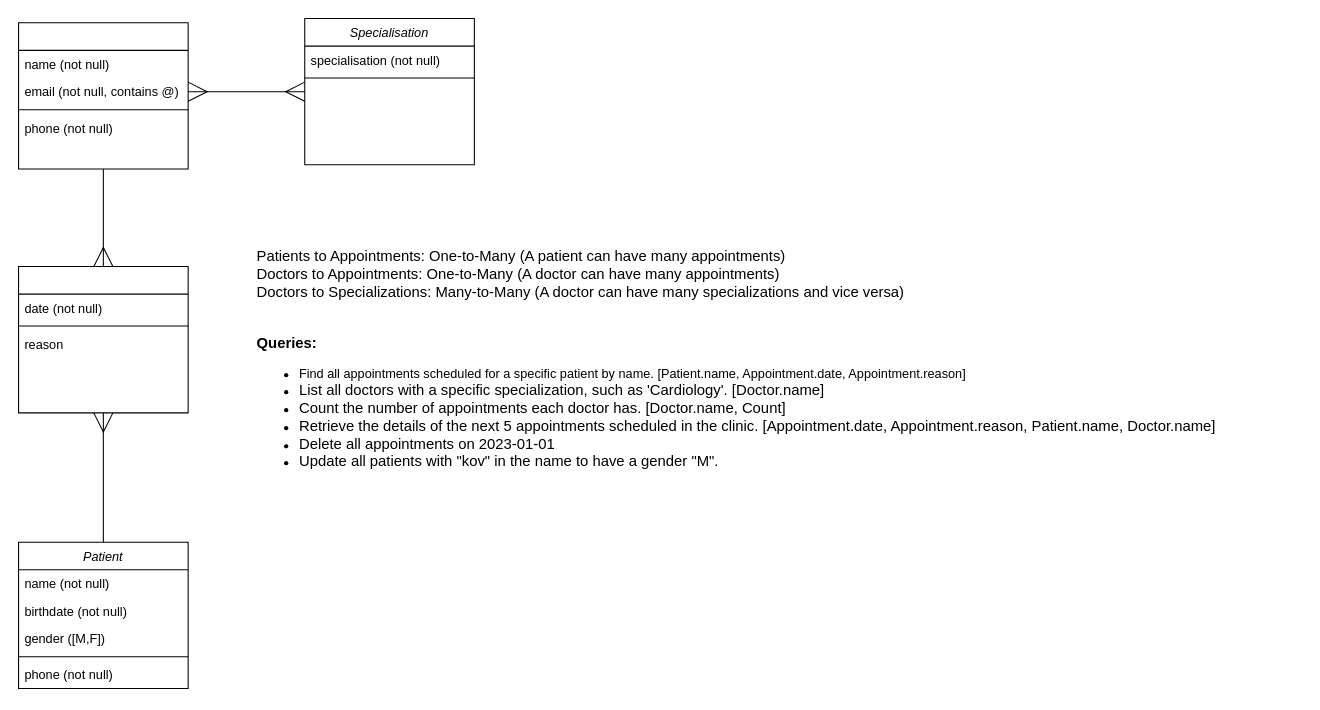
Image size: 1320x710. Some labels were removed from this diagram. The box of each missing label's shape, as (x1, y1, x2, y2) in pixels:
Appointment: (17, 266, 188, 413)
Doctor: (17, 22, 188, 169)
